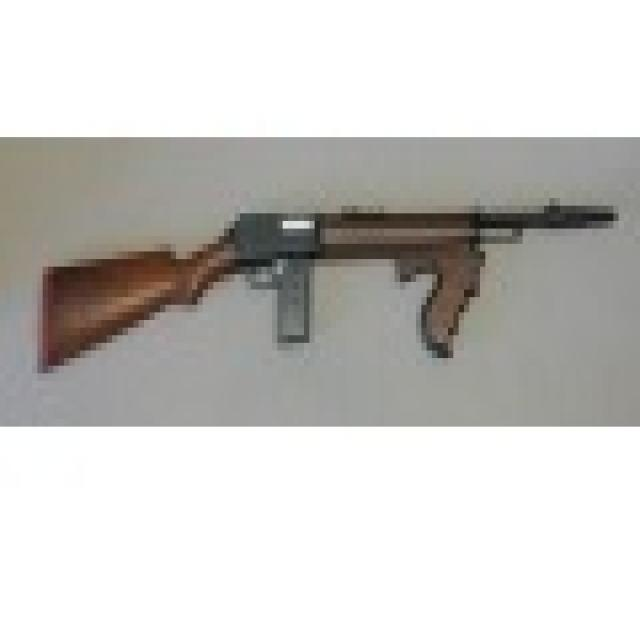Gun: (27, 181, 626, 380)
